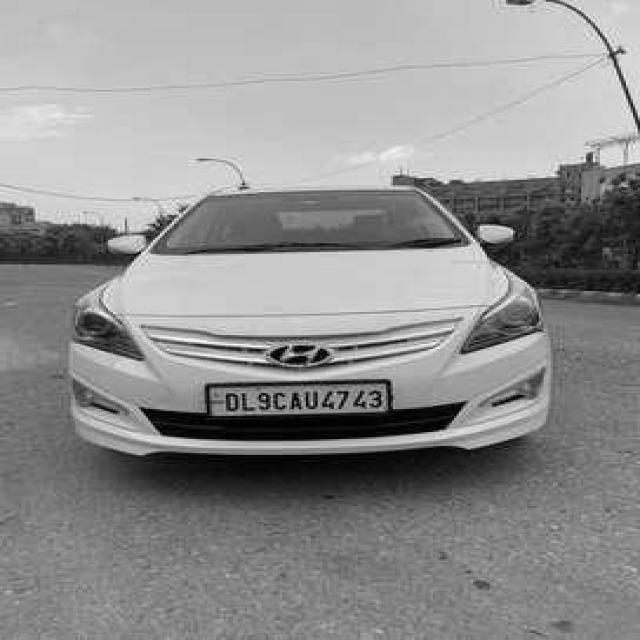car: (61, 190, 558, 472)
license-plate: (214, 386, 393, 420)
